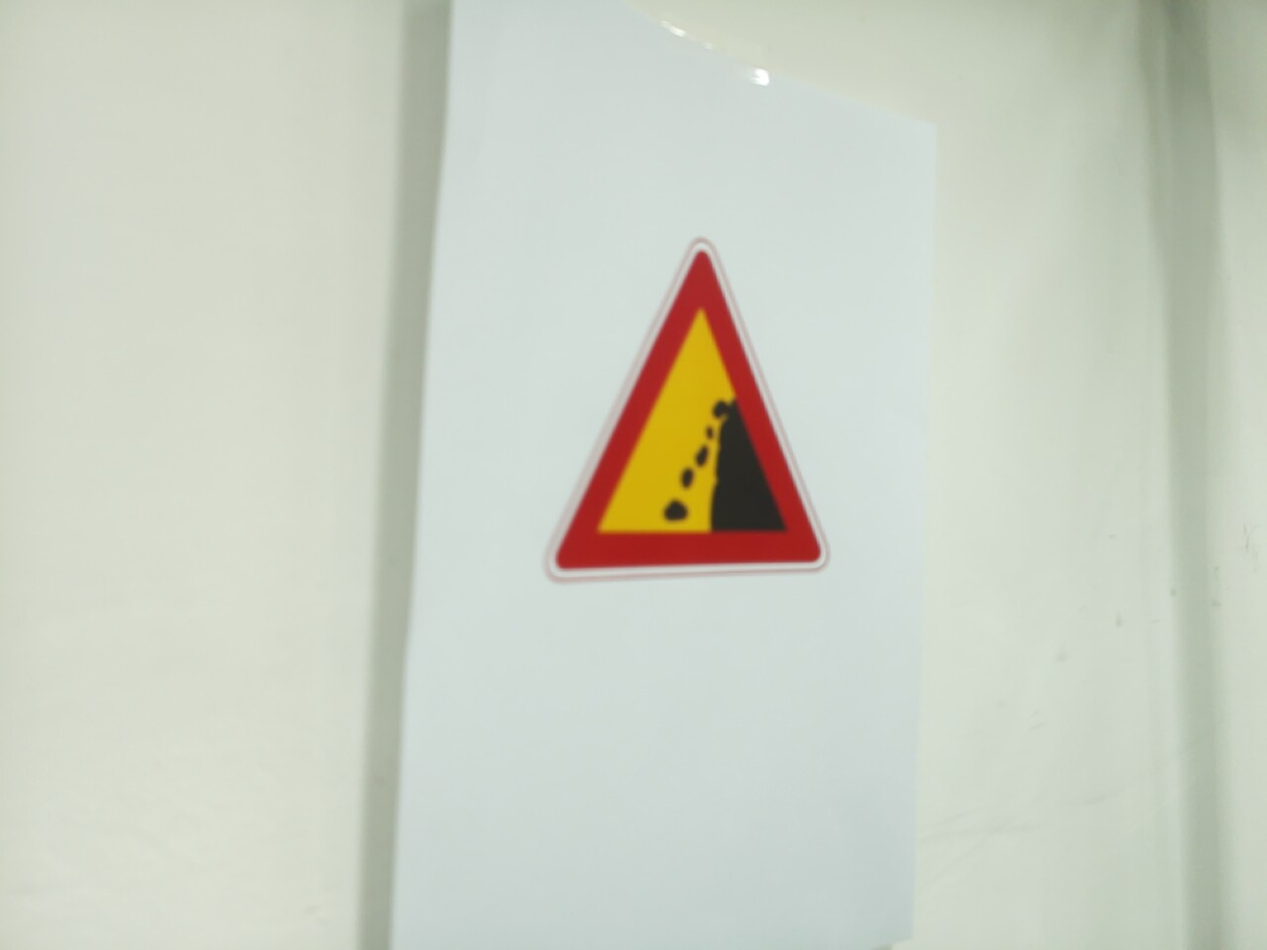falling_rocks: (546, 241, 829, 579)
